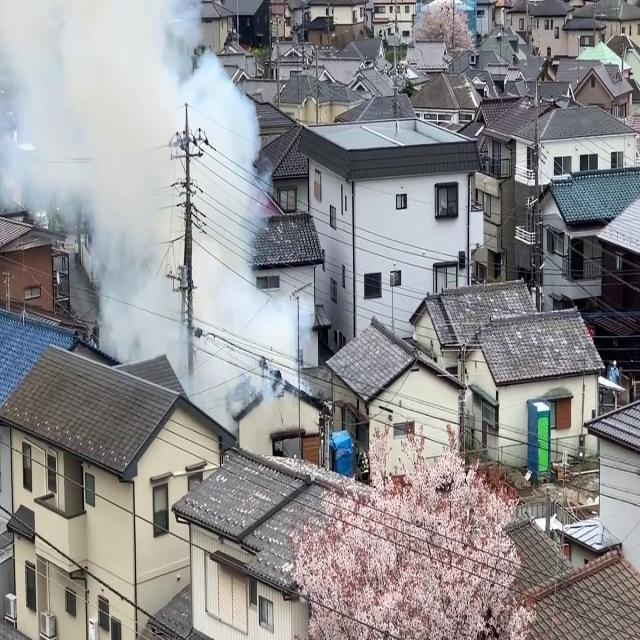Smoke: (2, 0, 300, 376)
